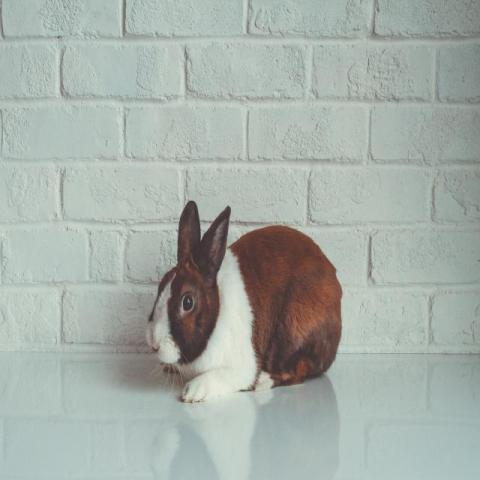small_animal: (142, 199, 344, 404)
